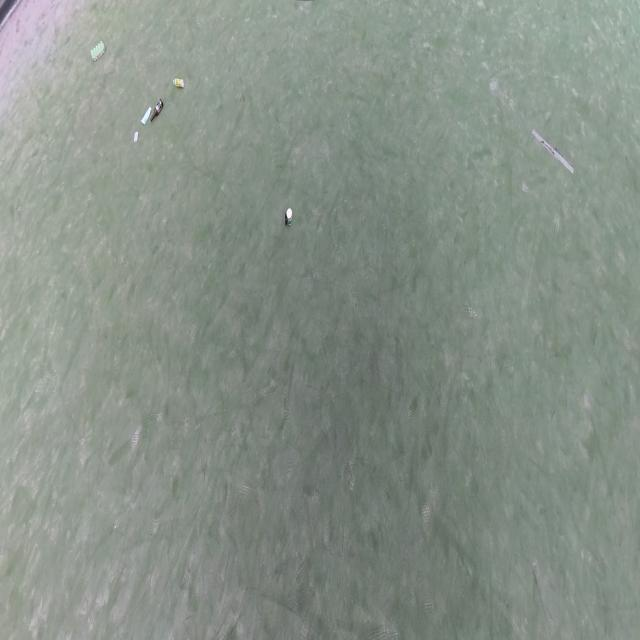rubbish: (90, 40, 106, 64), (150, 97, 164, 123), (141, 105, 152, 125), (284, 208, 292, 225), (172, 79, 185, 87), (133, 131, 139, 142)
